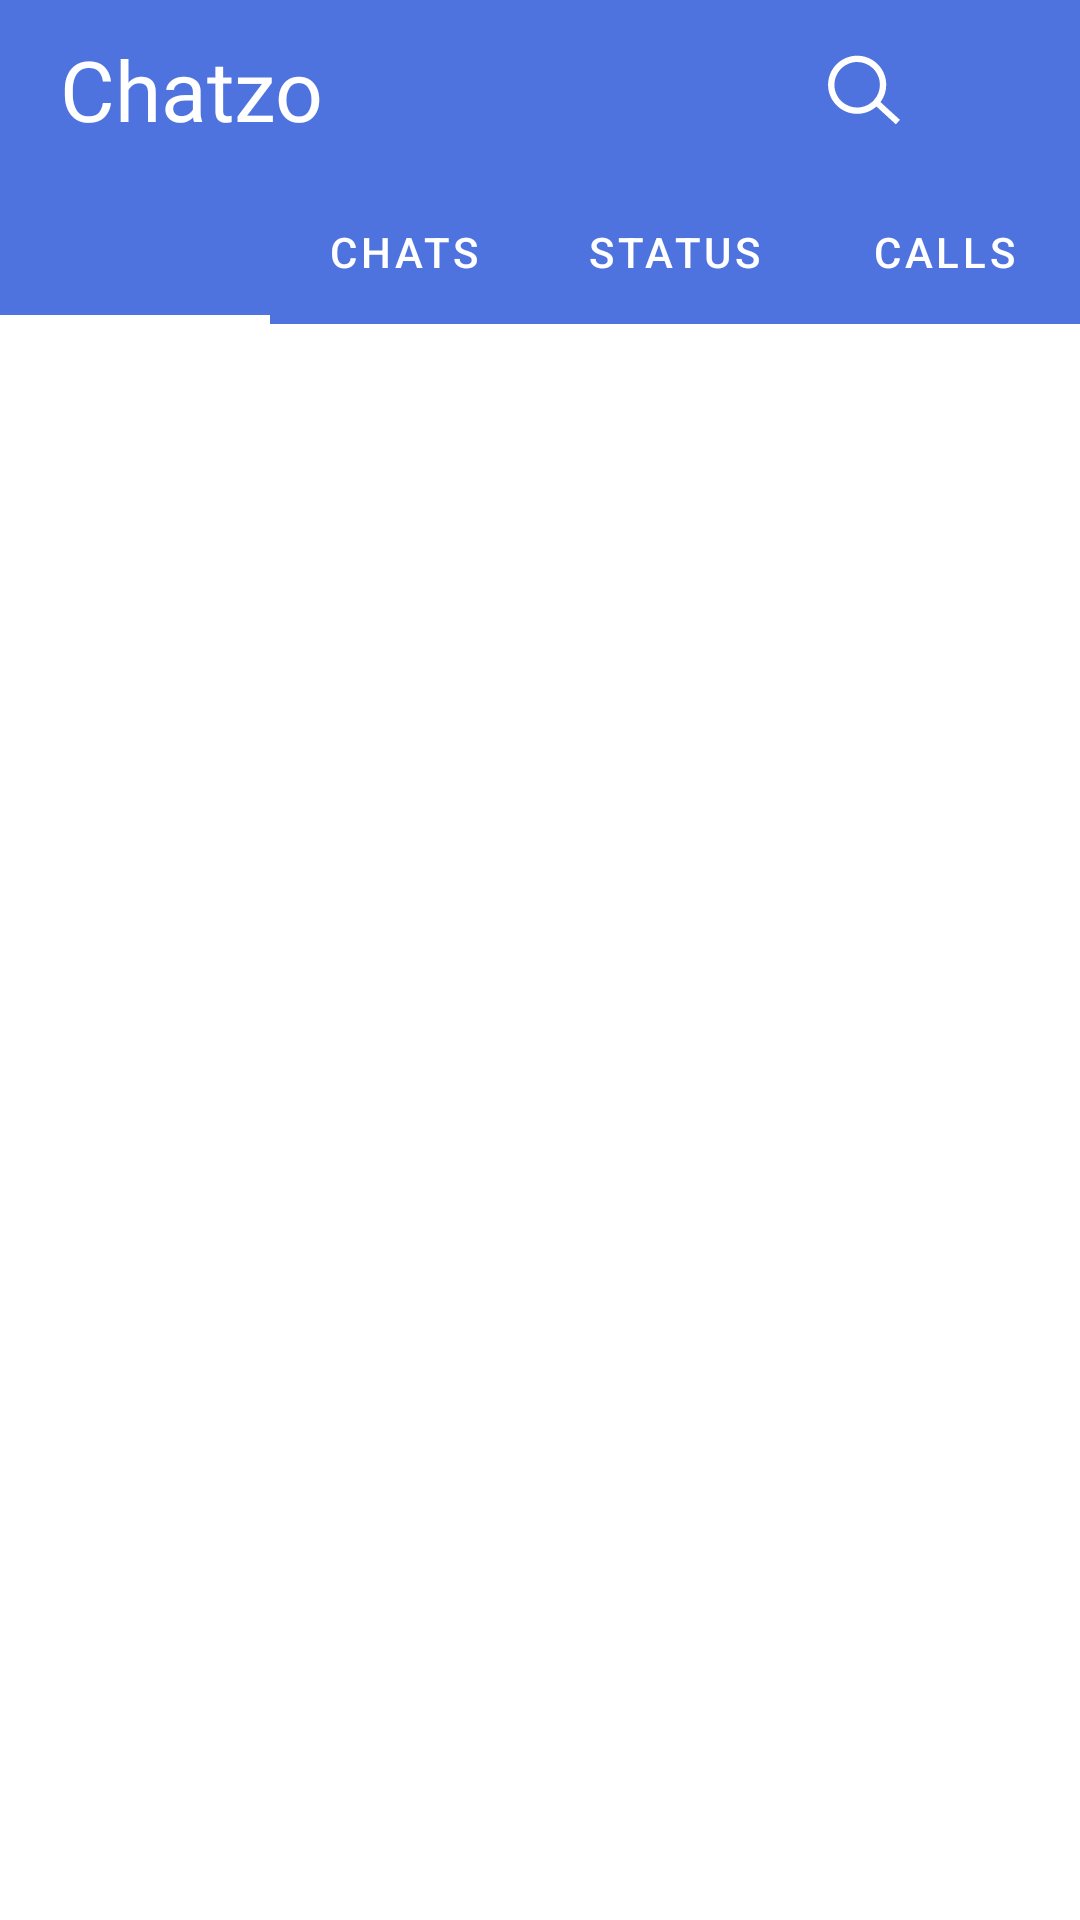

Screen size 1080 x 1920. Icon name, then its center in pixels as (x,y):
search: (864,89)
